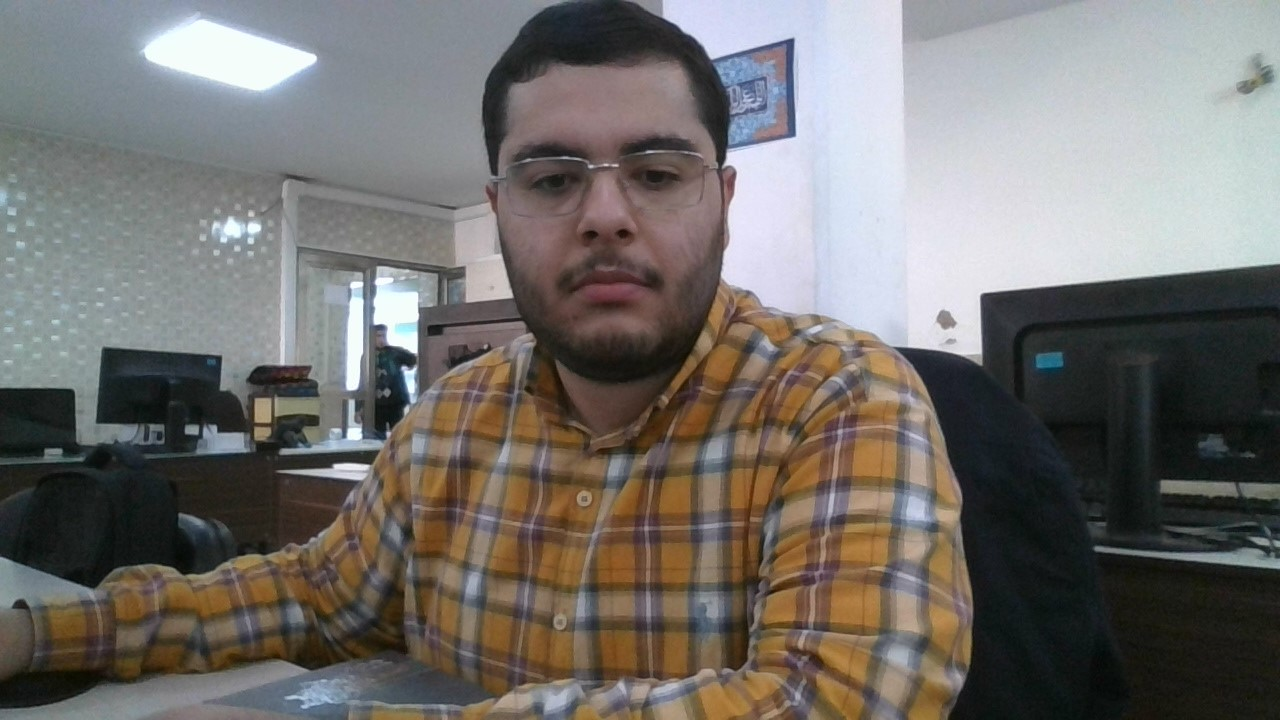NoMask: (500, 188, 731, 383)
